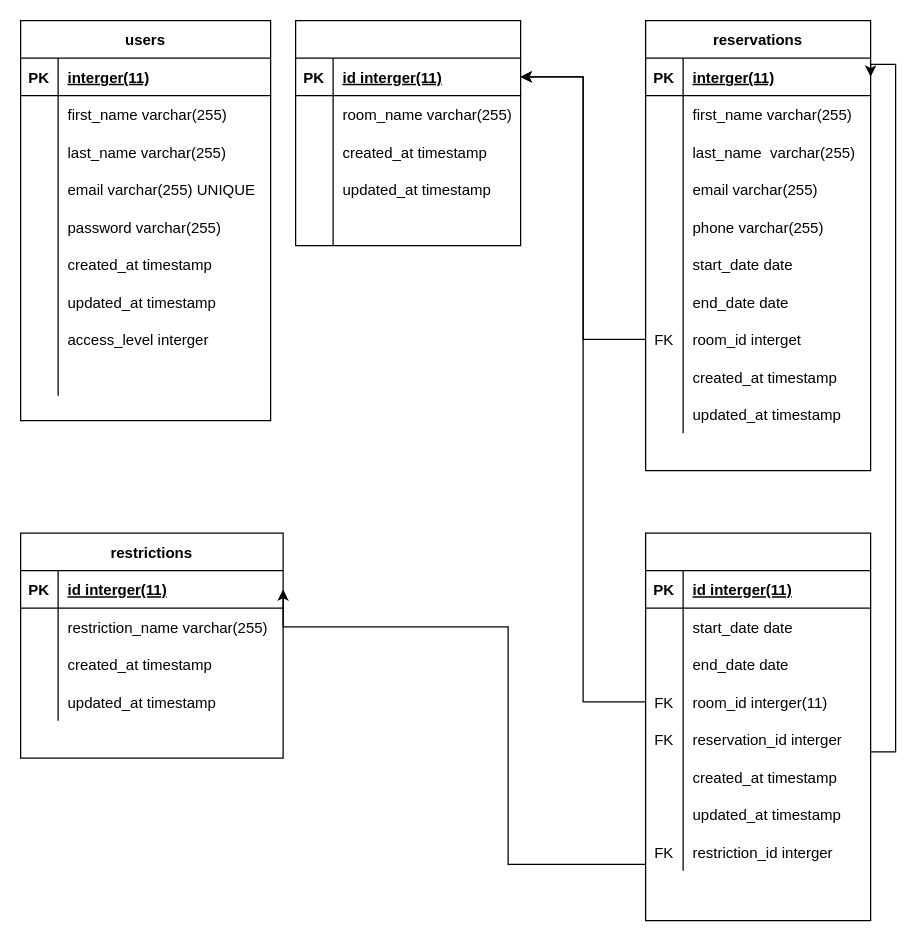
Some shapes in this 916 by 941 pixel diagram are drawn without their labels. The shapes that lost their labels are listed below. From the top down, each one's box as (x1, y1, x2, y2) in pixels, then its label:
(294, 19, 521, 246): rooms
(644, 532, 871, 921): room_restrictions
